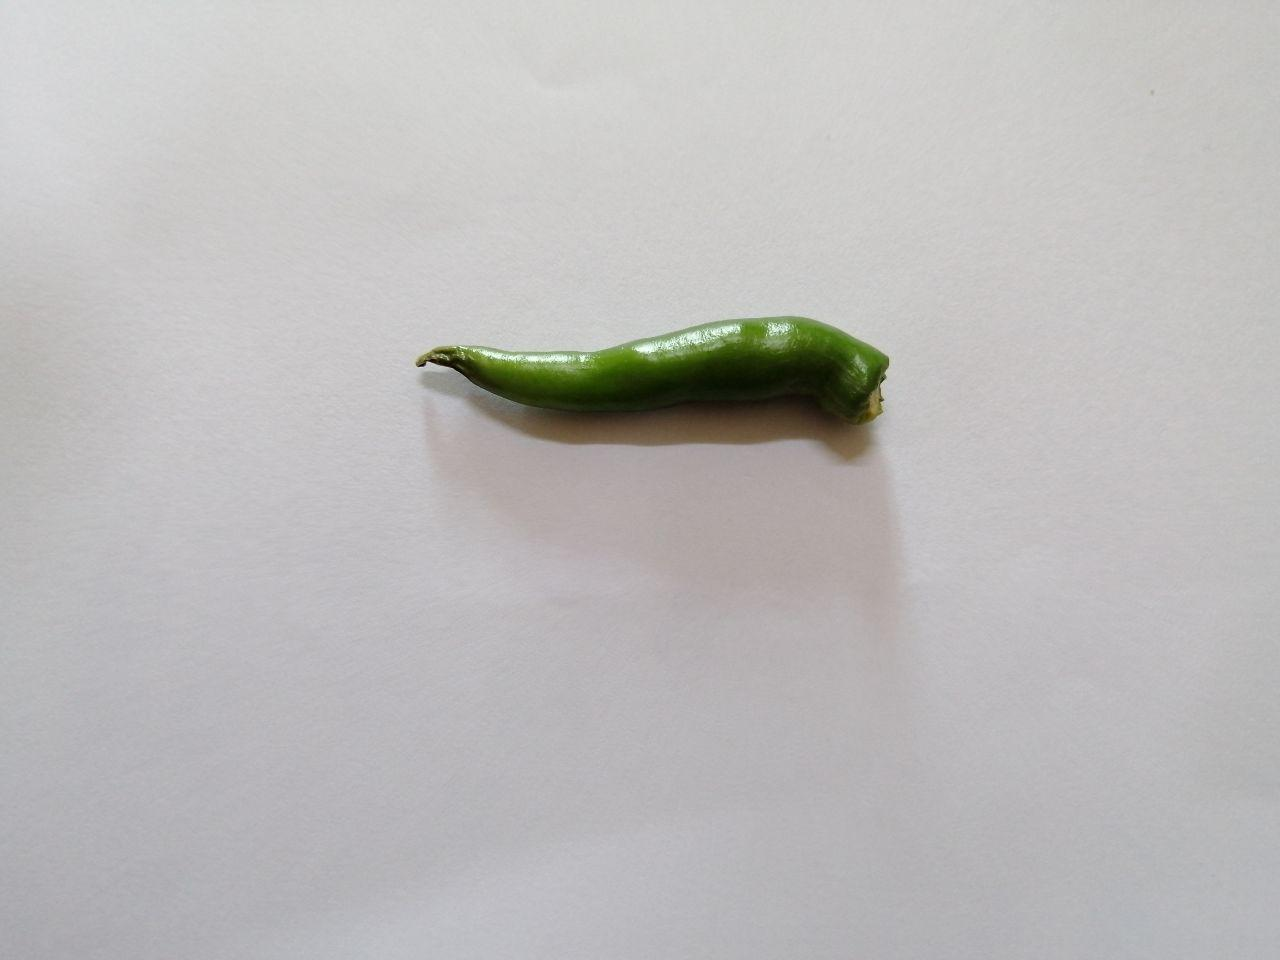lada hijau: (403, 306, 915, 493)
